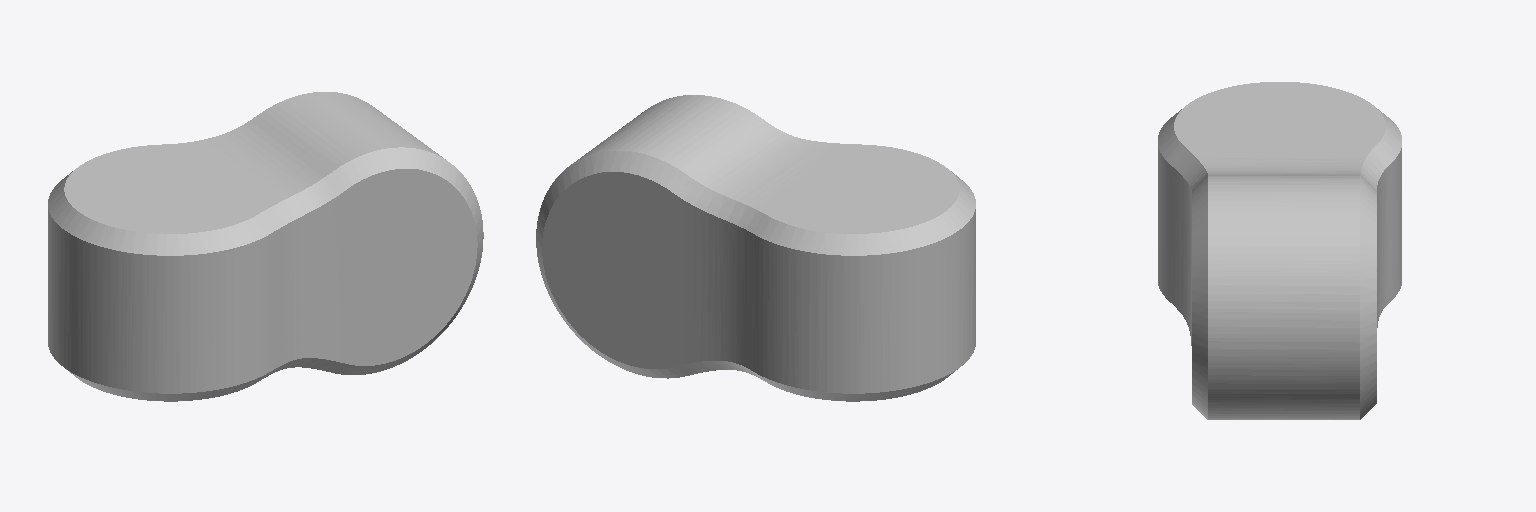
Rendered from right_wrist_pitch_link_collisions.obj.
3 renders of one model, left to right at view 1: azimuth 30°, elevation 25°; view 2: azimuth 150°, elevation 25°; view 3: azimuth 270°, elevation 25°, orthographic.
Size of the model in its own units: 0.103 by 0.057 by 0.057.